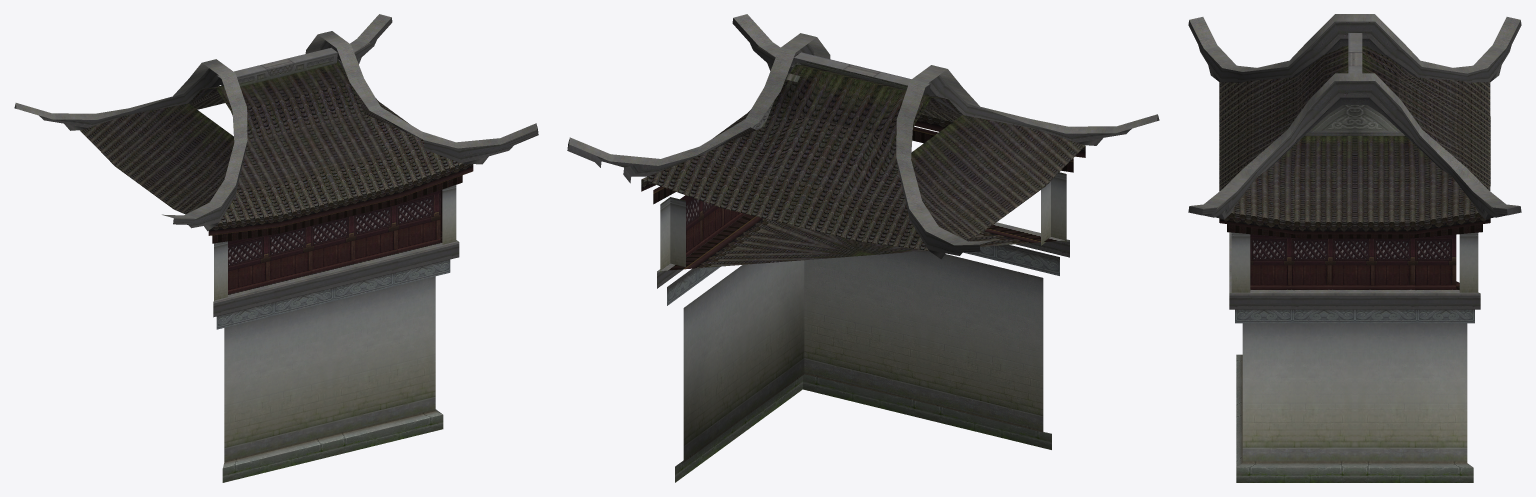
The model's file is zc_suzhou_zhujian02.FBX.
The picture shows the model from 3 angles, left to right: view 1: azimuth 30°, elevation 25°; view 2: azimuth 150°, elevation 25°; view 3: azimuth 270°, elevation 25°; orthographic projection. The views are drawn at different scales.
Parts seen in each view (by area): view 1: zc_suzhou_zhujian02; view 2: zc_suzhou_zhujian02; view 3: zc_suzhou_zhujian02.
Part boxes in pixels (x1=…): zc_suzhou_zhujian02: x1=14, y1=14, x2=538, y2=482; zc_suzhou_zhujian02: x1=567, y1=14, x2=1159, y2=482; zc_suzhou_zhujian02: x1=1188, y1=14, x2=1521, y2=482.
Bounding box in the file's own units: 829 × 760 × 606.
Materials: 1 (1 with a texture image).
